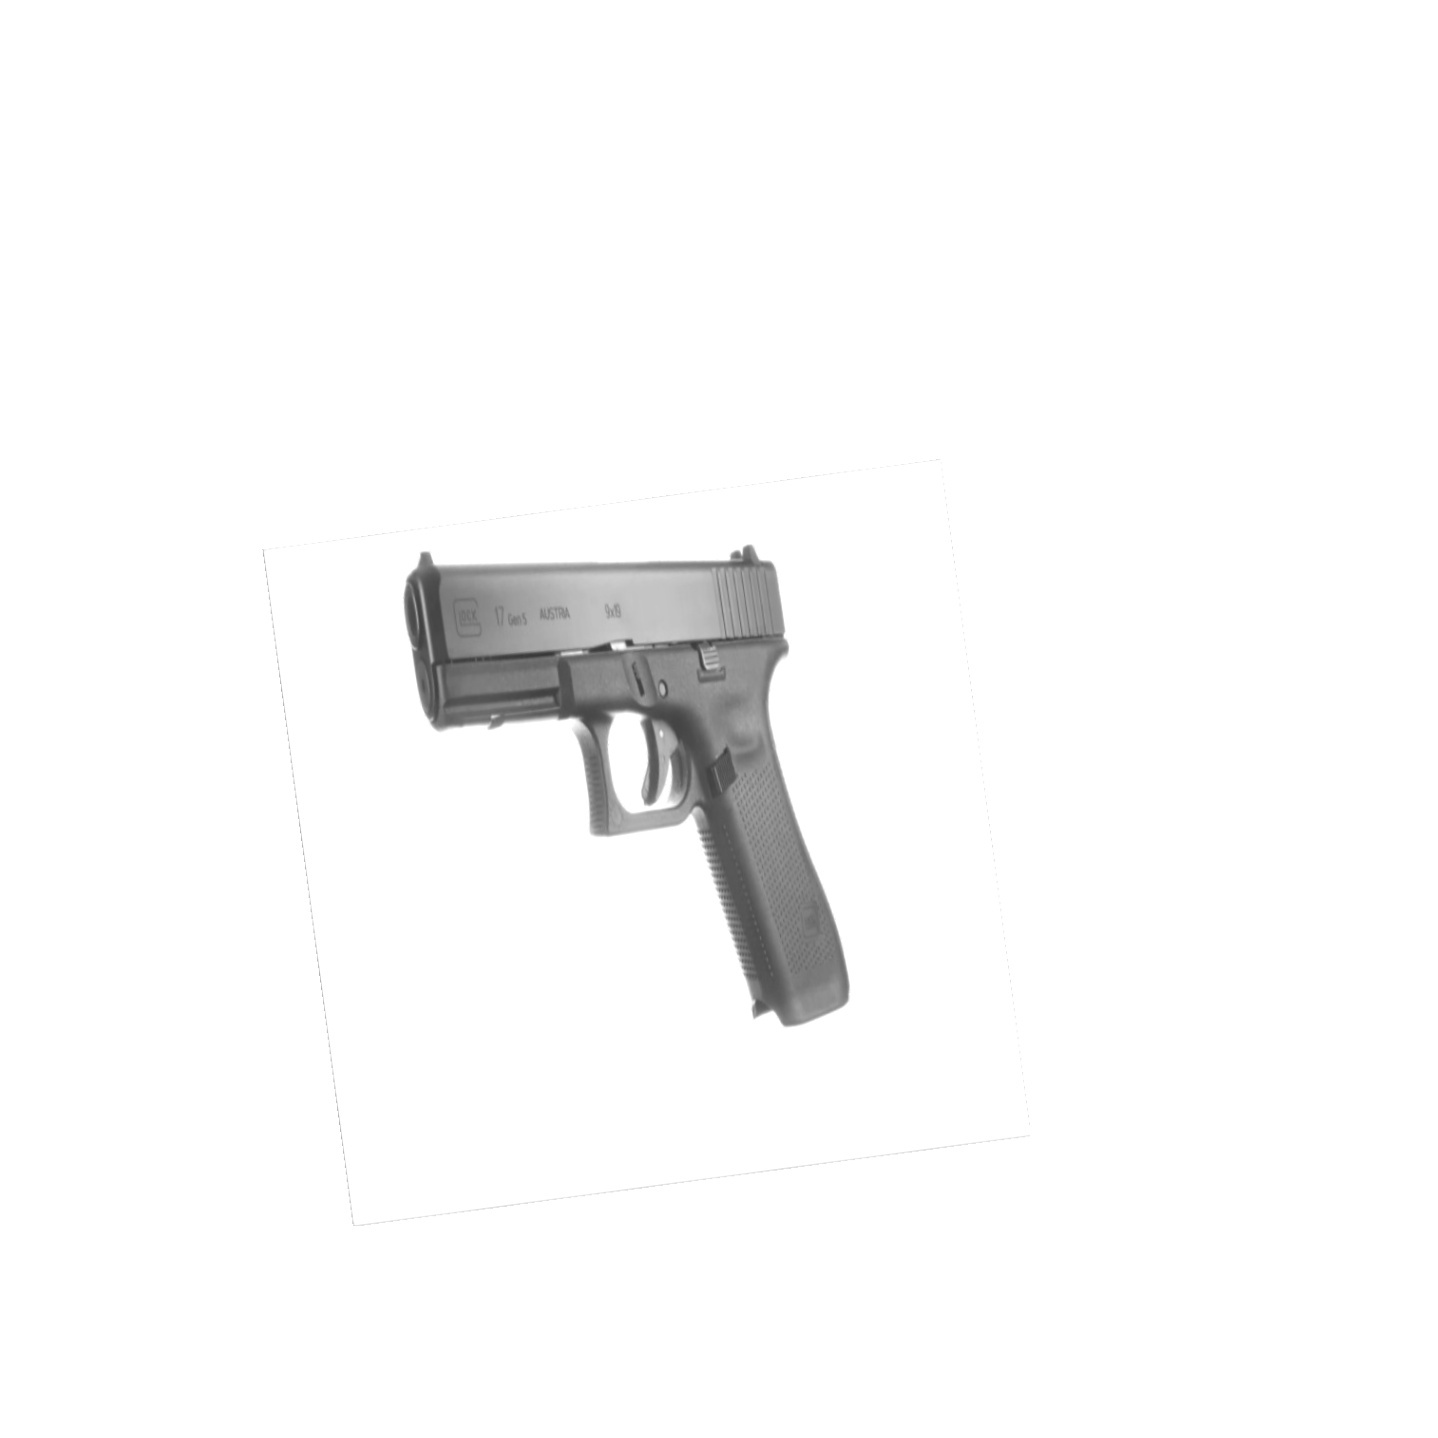gun: (404, 546, 853, 1028)
